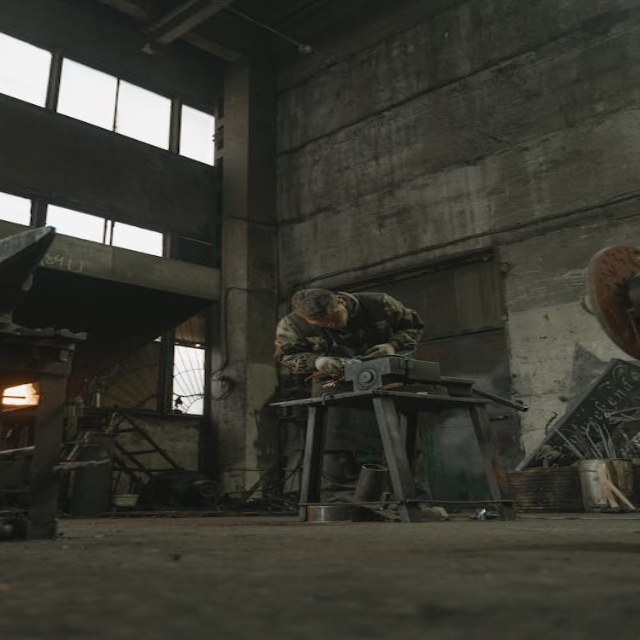Guantes: (315, 356, 348, 376), (363, 343, 395, 358)
